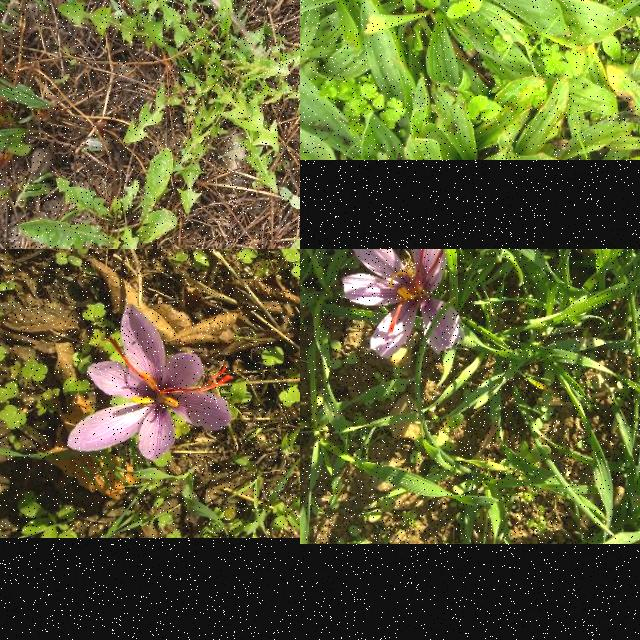flower: (67, 303, 229, 462), (341, 249, 464, 360)
